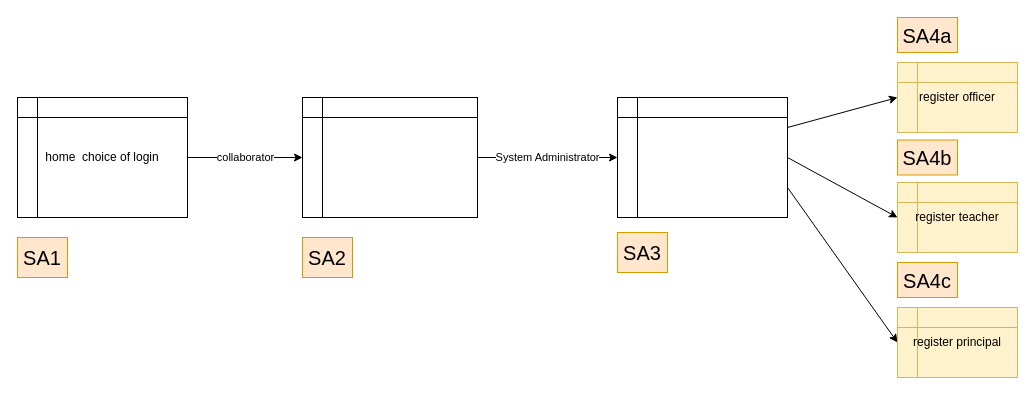
Some shapes in this 1035 by 395 pixel diagram are drawn without their labels. The centre of each missing label's shape, as x and y in pixels:
choose functionality: pixel 702 157
collaborator login: pixel 390 157
